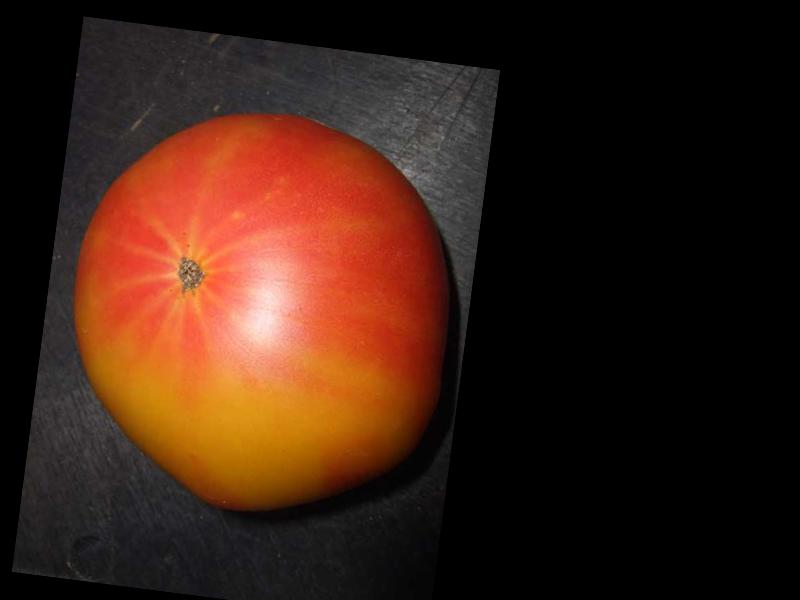Tomato: (49, 91, 474, 529)
